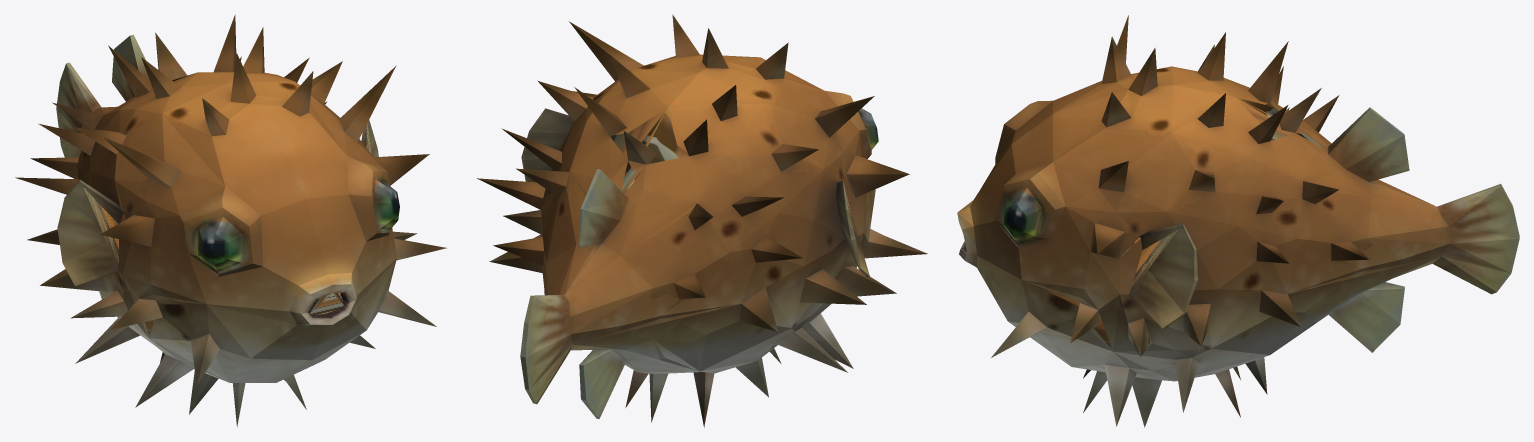
File: PufferFish.fbx
3 renders of one model, left to right at view 1: azimuth 30°, elevation 25°; view 2: azimuth 150°, elevation 25°; view 3: azimuth 270°, elevation 25°, orthographic. The views are drawn at different scales.
Visible parts, largest first — view 1: fish_puffer; view 2: fish_puffer; view 3: fish_puffer.
Boxes of the visible parts, box(x1,y1,x2,y2) form: fish_puffer: box(15, 14, 446, 427); fish_puffer: box(477, 14, 927, 427); fish_puffer: box(957, 15, 1519, 427).
Bounding box in the file's own units: 28.41 × 26.86 × 38.65.
